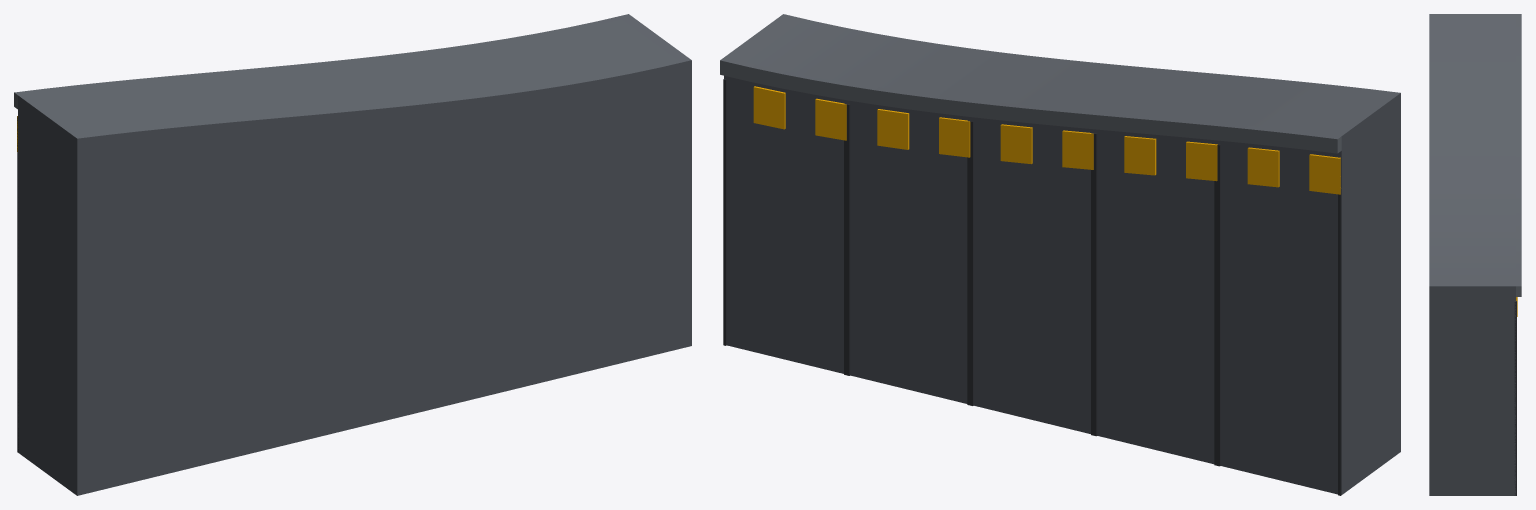
The picture shows the model from 3 angles, left to right: view 1: azimuth 30°, elevation 25°; view 2: azimuth 150°, elevation 25°; view 3: azimuth 270°, elevation 25°; orthographic projection. The views are drawn at different scales.
Parts seen in each view (by area): view 1: d0wf; view 2: d0wf; view 3: d0wf.
Boxes of the visible parts, x1=… form: d0wf: x1=14, y1=14, x2=691, y2=495; d0wf: x1=720, y1=14, x2=1400, y2=495; d0wf: x1=1429, y1=14, x2=1521, y2=495.
Size of the model in its own units: 9 by 5 by 1.6.
